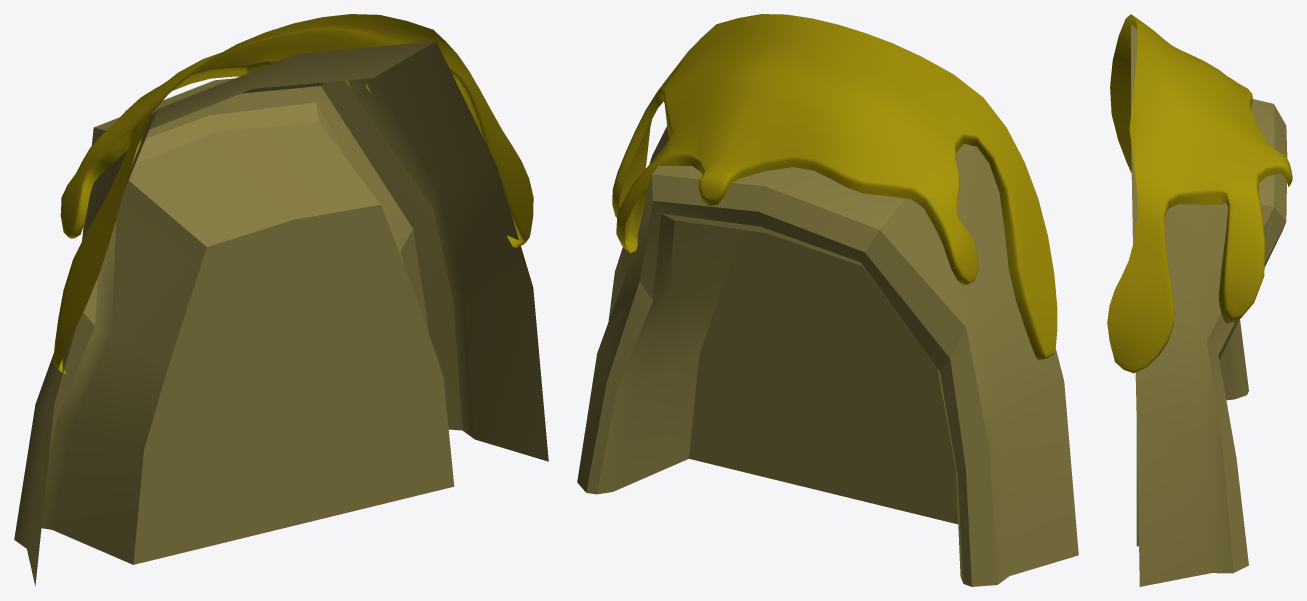
The model's file is Door.fbx.
3 views of the same model, side by side, from view 1: azimuth 30°, elevation 25°; view 2: azimuth 150°, elevation 25°; view 3: azimuth 270°, elevation 25° (orthographic). The views are drawn at different scales.
Parts seen in each view (by area): view 1: pCube1, pCube2; view 2: pCube1, pCube2; view 3: pCube1, pCube2.
Boxes of the visible parts, bbox=[...] form: pCube1: bbox=[14, 41, 548, 585]; pCube2: bbox=[53, 14, 533, 373]; pCube1: bbox=[577, 126, 1078, 586]; pCube2: bbox=[612, 14, 1057, 360]; pCube1: bbox=[1131, 24, 1287, 586]; pCube2: bbox=[1107, 14, 1292, 373].
Size of the model in its own units: 0.8967 by 0.8381 by 0.3222.
